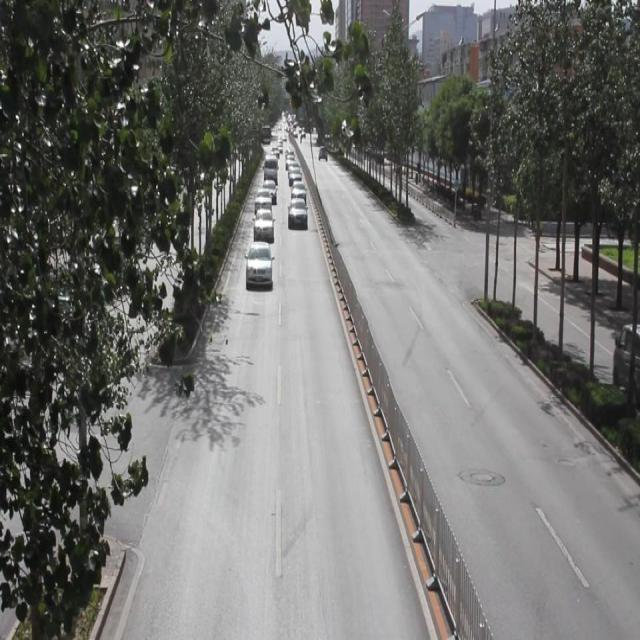car: (247, 240, 272, 287), (253, 207, 274, 241), (287, 197, 308, 230), (255, 188, 272, 215)
